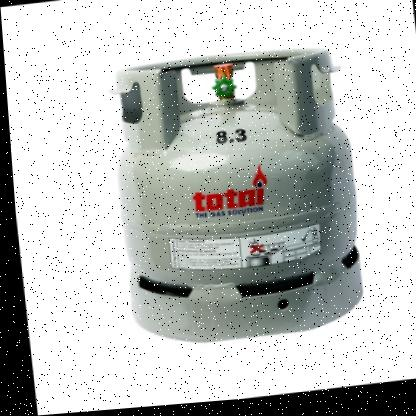gas-tank: (74, 12, 395, 372)
